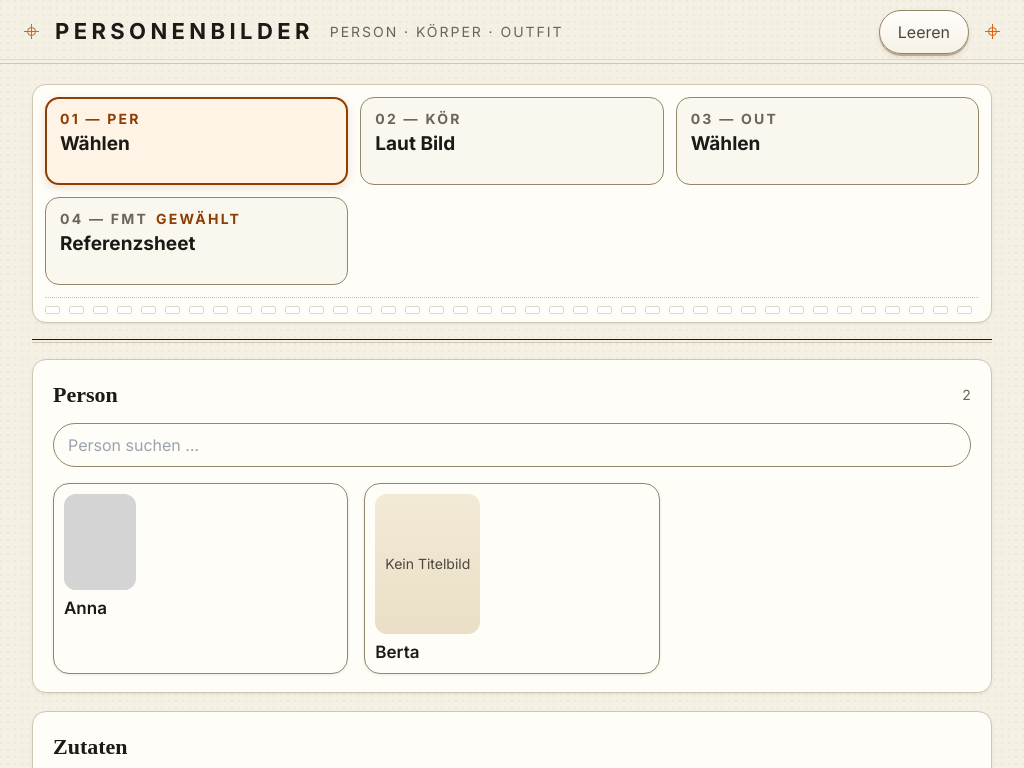
Ladefehler › werden nicht zum Titelbild: nichts wird bezahlt, bis die Bilder da sind
Click the button "Anna".
click(100, 542)  # box left=53, top=483, right=348, bottom=674
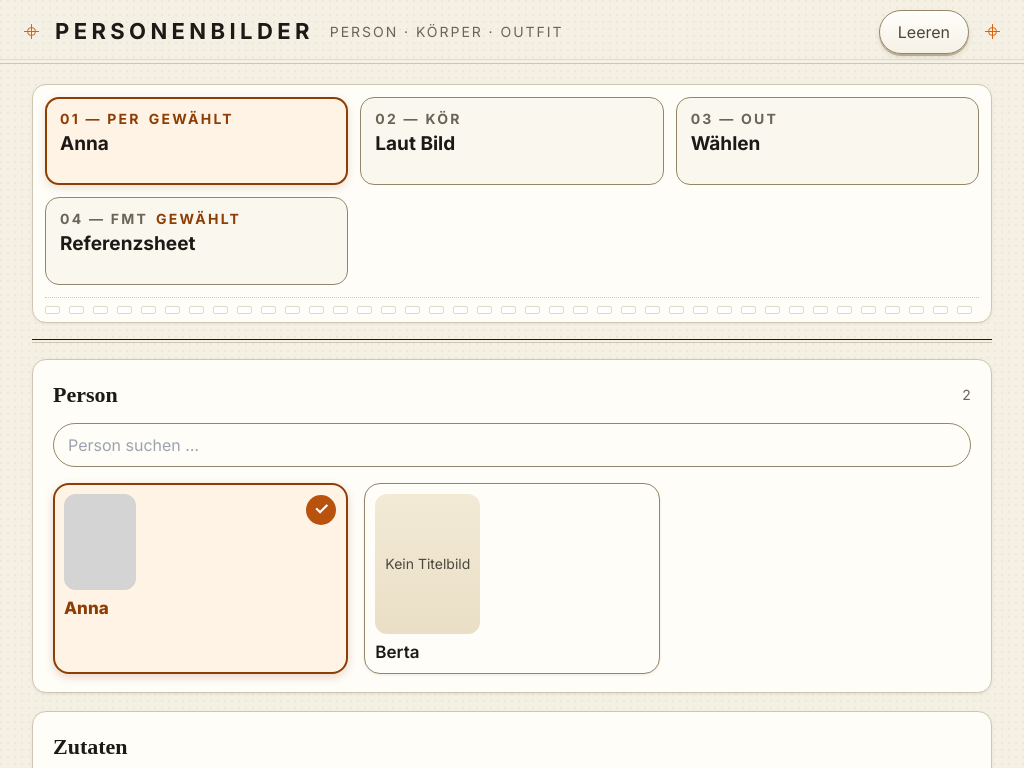
Click the tab "03 — OUT Wählen".
click(734, 118)  # box left=676, top=97, right=979, bottom=185
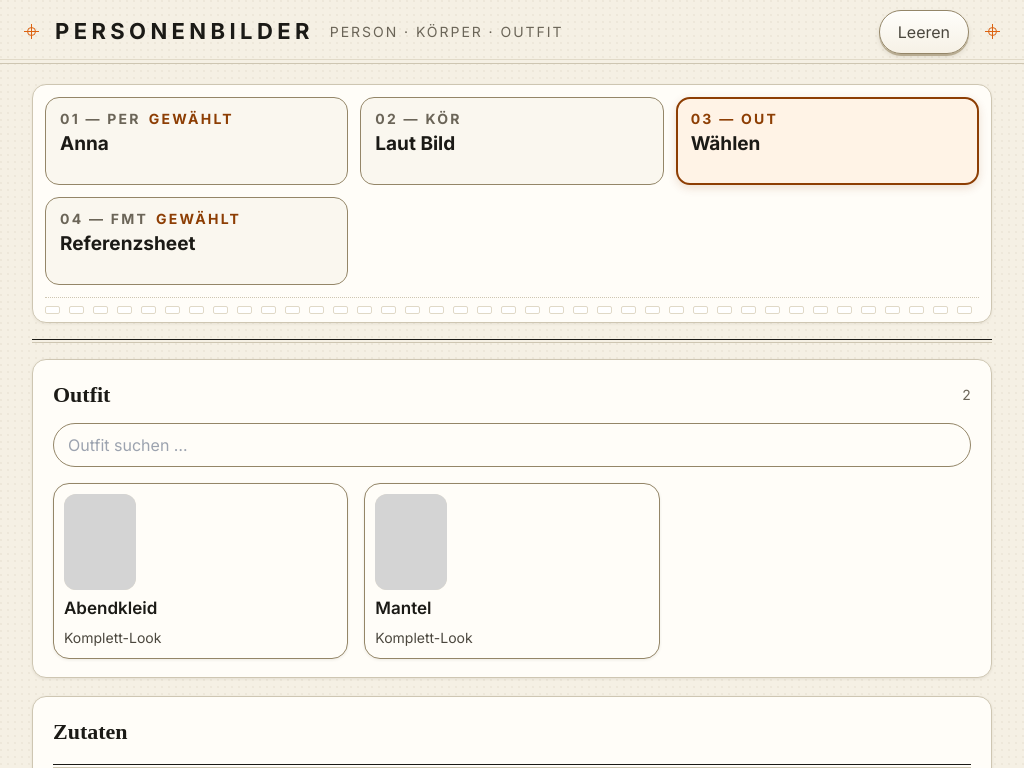
Click the button "Abendkleid Komplett-Look".
click(100, 542)  # box left=53, top=483, right=348, bottom=659
(page scrolled)
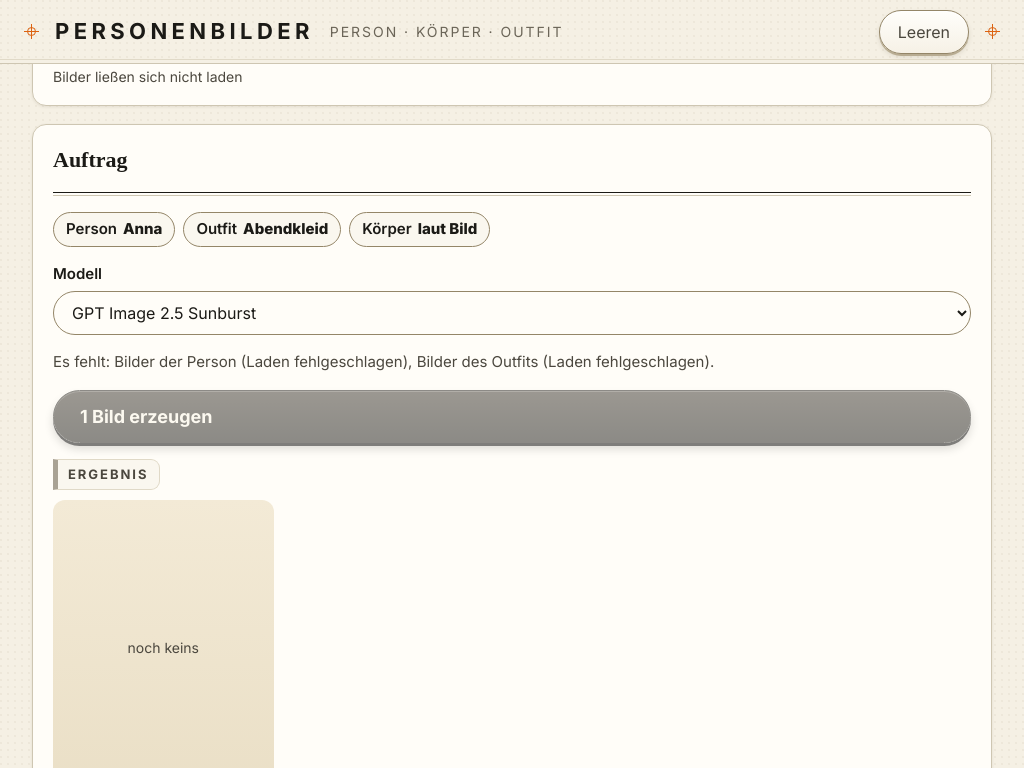
Check: the message shows "Laden fehlgeschlagen", box left=114, top=352, right=710, bottom=371
Check: the button "1 Bild erzeugen" is disabled, box left=53, top=390, right=971, bottom=443
